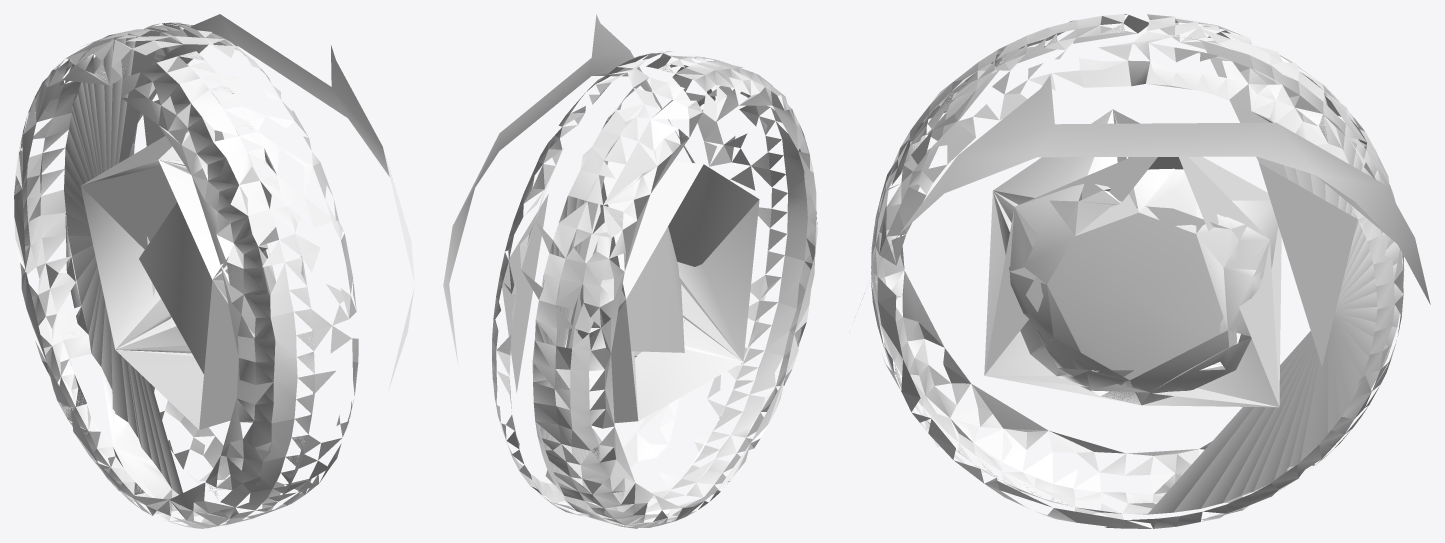
3 renders of one model, left to right at view 1: azimuth 30°, elevation 25°; view 2: azimuth 150°, elevation 25°; view 3: azimuth 270°, elevation 25°, orthographic. The views are drawn at different scales.
Size of the model in its own units: 0.249 by 0.61 by 0.6569.
Materials: 1 (1 with a texture image).
